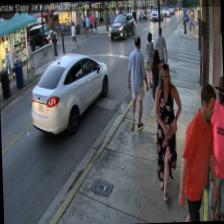person: (174, 83, 220, 221), (151, 62, 184, 200), (204, 75, 224, 220)
